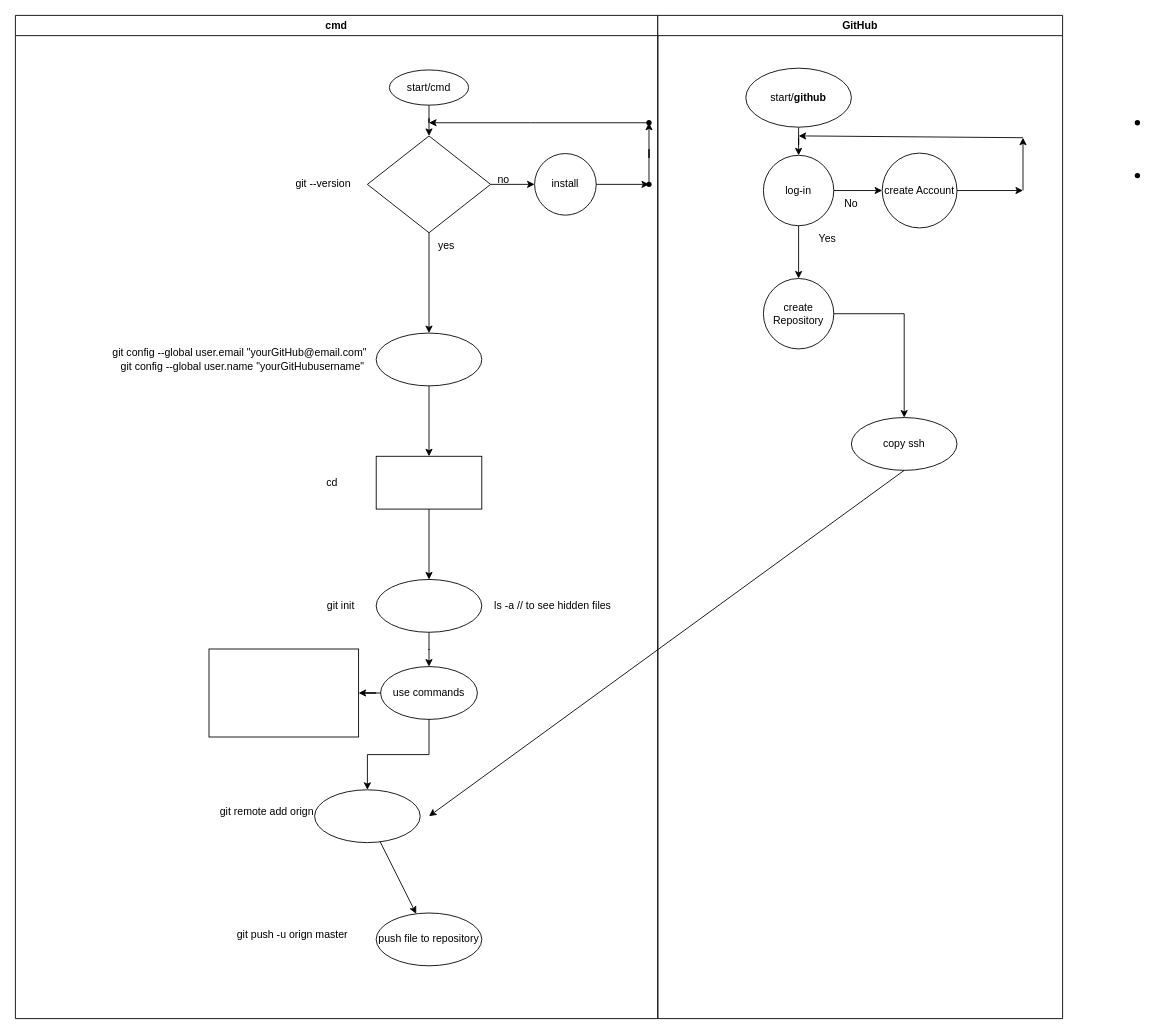
Some shapes in this 1170 by 1034 pixel diagram are drawn without their labels. Here are the shapes that lost their labels. From the top down, the centre of each, then its label:
point (429, 184): check if git is installed
point (428, 359): Add github email,username
point (428, 482): go to loaction folder
point (428, 605): Add git(hidden file)
point (283, 692): git status git add git push git commint -m " foldername " git log git help
point (367, 816): connect : local machine & github
